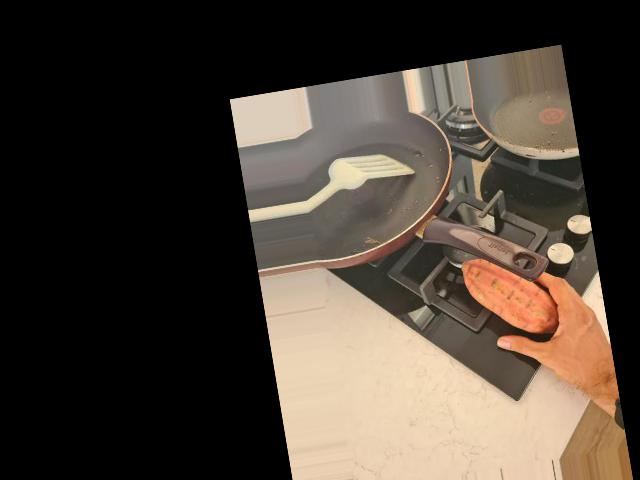sweet_potato: (457, 244, 560, 346)
